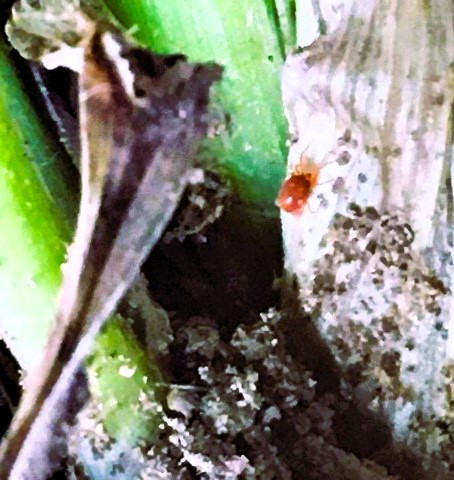Wheat Red Spider: (255, 137, 340, 223)
